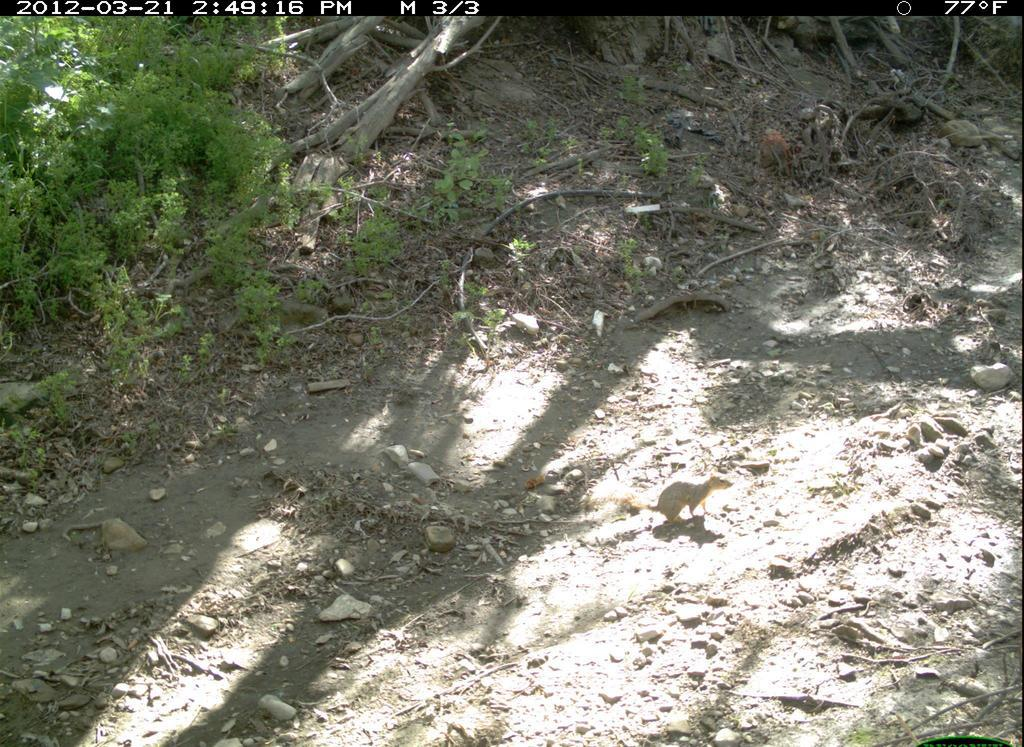squirrel: (610, 465, 742, 537)
